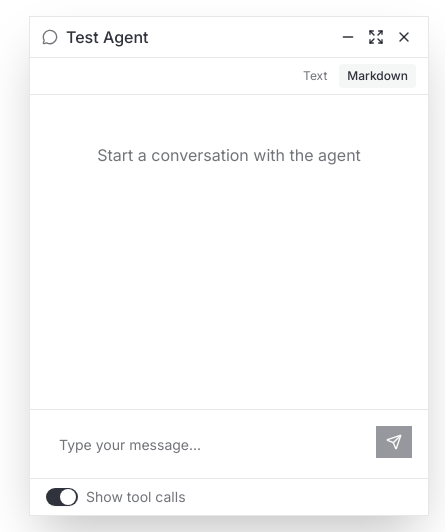
Scenario: FloatingChat › streaming enabled › should accumulate content from multiple chunks into single message
This screenshot has width=445, height=532.
Type "Test" into the field with placeholder "Type your message..." at (207, 444), box [46, 426, 368, 462]
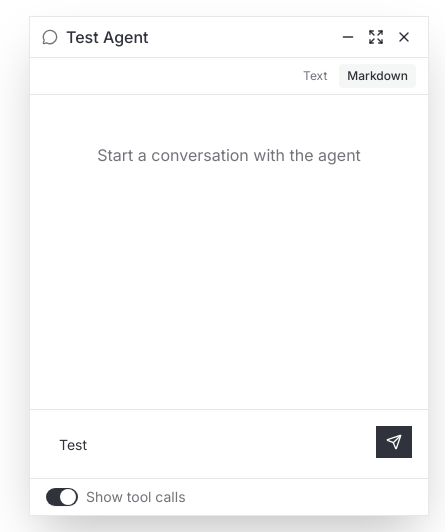
Click the button named "send" at (394, 442), box [376, 426, 412, 458]
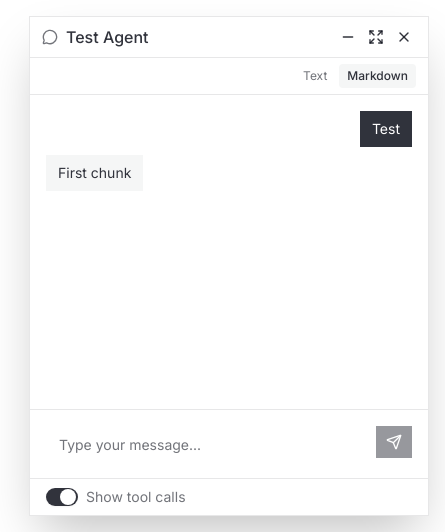
Check: the text "First chunk" is shown once, box [58, 163, 131, 183]
